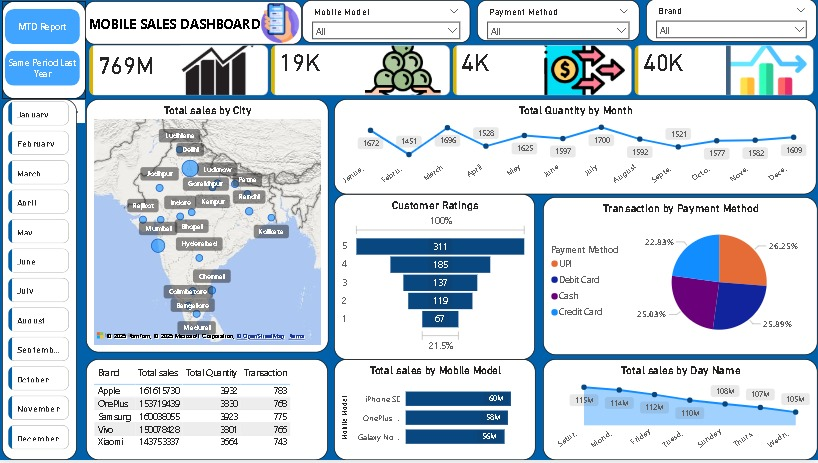

What the dashboard file says about the page in this screenshot:
{"tool":"powerbi","page":{"name":"Dashboard","canvas":[1280,720],"ordinal":0},"visuals":[{"type":"shape","box":[5.7,2.9,131.4,154.3],"z":0},{"type":"shape","box":[5.7,155.7,117.1,564.3],"z":1000},{"type":"advancedSlicerVisual","fields":{"Values":["Custom_calendar.Date.Variation.Date Hierarchy.Month"]},"box":[11.4,157.1,105.7,562.9],"z":2000},{"type":"cardVisual","fields":{"Data":["Sales_data.Total sales","Sales_data.Total Quantity","Sales_data.Transaction","Sales_data.Average"]},"box":[137.1,71.4,1142.9,84.3],"z":3000},{"type":"map","fields":{"Category":["Sales_data.City"],"Size":["Sales_data.Total sales"]},"box":[137.1,155.7,378.6,395.7],"z":4000},{"type":"lineChart","fields":{"Category":["Custom_calendar.Date.Variation.Date Hierarchy.Month"],"Y":["Sales_data.Total Quantity"]},"box":[525.7,155.7,754.3,148.6],"z":5000},{"type":"clusteredBarChart","fields":{"Category":["Sales_data.Mobile Model"],"Y":["Sales_data.Total sales"]},"box":[525.4,562.7,315.3,157.6],"z":6000},{"type":"pieChart","fields":{"Category":["Sales_data.Payment Method"],"Y":["Sales_data.Transaction"]},"box":[851.4,310,428.6,247.1],"z":7000},{"type":"funnel","title":" Customer Ratings","fields":{"Category":["Sales_data.Customer Ratings"],"Y":["Sales_data.Customer Ratings"]},"box":[525.7,304.3,314.3,258.6],"z":8000},{"type":"areaChart","fields":{"Category":["Sales_data.Day Name"],"Y":["Sales_data.Total sales"]},"box":[850.8,562.7,428.8,157.6],"z":9000},{"type":"tableEx","fields":{"Values":["Sales_data.Brand","Sales_data.Total sales","Sales_data.Total Quantity","Sales_data.Transaction"]},"box":[137.3,562.7,378,157.6],"z":10000},{"type":"slicer","fields":{"Values":["Sales_data.Mobile Model"]},"box":[475.7,1.4,262.9,67.1],"z":11000},{"type":"slicer","fields":{"Values":["Sales_data.Payment Method"]},"box":[748.6,1.4,254.3,64.3],"z":12000},{"type":"slicer","fields":{"Values":["Sales_data.Brand"]},"box":[1012.9,0,267.1,67.1],"z":13000},{"type":"pageNavigator","box":[11.4,15.7,117.1,121.4],"z":14000},{"type":"shape","box":[136.7,2.9,339.4,67.6],"z":15000},{"type":"image","box":[404.1,1.5,72,72],"z":15501}]}

Visuals, with their boxes in screenshot pixels (x1, y1, x2, y2), scaled from the page's 1280x720 canvas onto the 818x463 screenshot:
shape: l=4, t=2, r=88, b=101
shape: l=4, t=100, r=78, b=462
advancedSlicerVisual - Custom_calendar.Date.Variation.Date Hierarchy.Month: l=7, t=101, r=75, b=462
cardVisual - Sales_data.Total sales x Sales_data.Total Quantity: l=88, t=46, r=817, b=100
map - Sales_data.City x Sales_data.Total sales: l=88, t=100, r=330, b=355
lineChart - Custom_calendar.Date.Variation.Date Hierarchy.Month x Sales_data.Total Quantity: l=336, t=100, r=817, b=196
clusteredBarChart - Sales_data.Mobile Model x Sales_data.Total sales: l=336, t=362, r=537, b=462
pieChart - Sales_data.Payment Method x Sales_data.Transaction: l=544, t=199, r=817, b=358
" Customer Ratings" funnel: l=336, t=196, r=537, b=362
areaChart - Sales_data.Day Name x Sales_data.Total sales: l=544, t=362, r=817, b=462
tableEx - Sales_data.Brand x Sales_data.Total sales: l=88, t=362, r=329, b=462
slicer - Sales_data.Mobile Model: l=304, t=1, r=472, b=44
slicer - Sales_data.Payment Method: l=478, t=1, r=641, b=42
slicer - Sales_data.Brand: l=647, t=0, r=817, b=43
pageNavigator: l=7, t=10, r=82, b=88
shape: l=87, t=2, r=304, b=45
image: l=258, t=1, r=304, b=47
